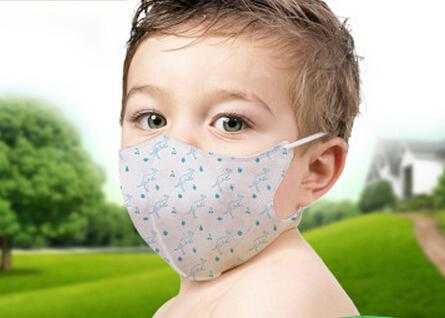OK: (113, 79, 305, 271)
